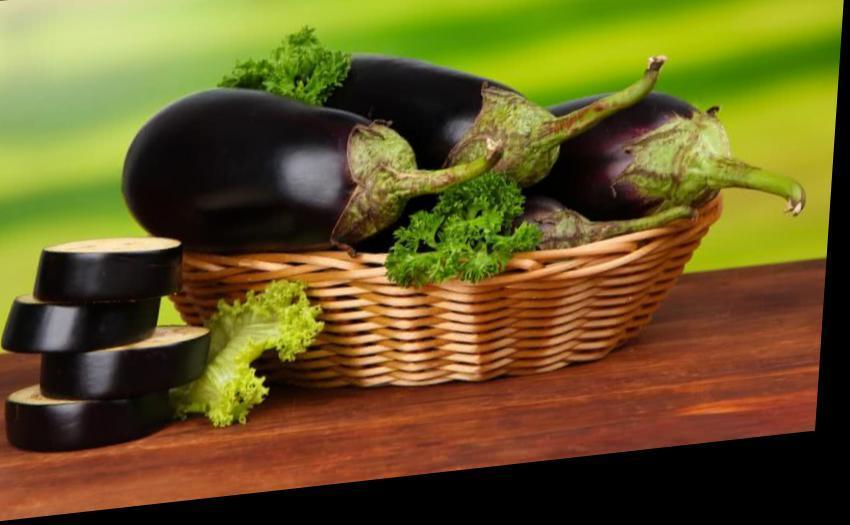eggplant: (141, 28, 716, 272)
